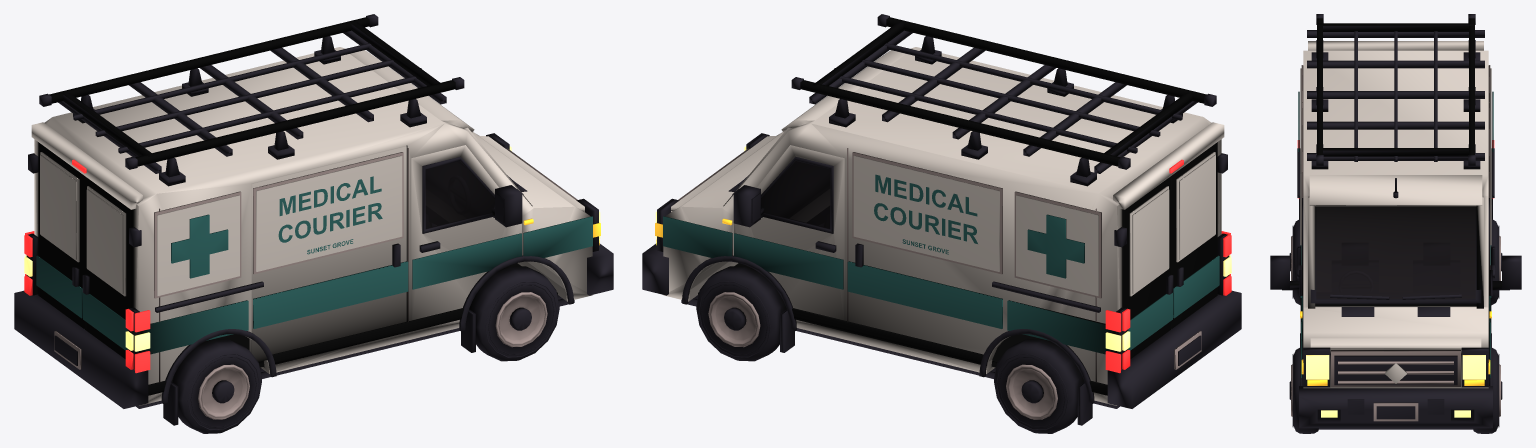
The model's file is veh.courier-van.lod1.glb.
3 views of the same model, side by side, from view 1: azimuth 30°, elevation 25°; view 2: azimuth 150°, elevation 25°; view 3: azimuth 270°, elevation 25° (orthographic). The views are drawn at different scales.
Parts seen in each view (by area): view 1: body, veh.courier-van, doorCargoL, doorL, doorRearR, doorRearL, wheelRL, wheelFL, lampBrakeL; view 2: body, veh.courier-van, doorR, doorRearL, doorRearR, wheelRR, wheelFR, lampBrakeR; view 3: veh.courier-van, body, doorL, doorR, wheelFL, wheelFR, lampHeadL, lampHeadR, doorCargoL, wheelRL, wheelRR.
Boxes of the visible parts, box(x1,y1,x2,y2) form: body: box(31, 47, 592, 405); veh.courier-van: box(14, 14, 613, 425); doorCargoL: box(249, 146, 408, 361); doorL: box(411, 145, 522, 320); doorRearR: box(28, 142, 84, 328); doorRearL: box(82, 176, 141, 358); wheelRL: box(172, 338, 261, 433); wheelFL: box(469, 266, 559, 361); lampBrakeL: box(125, 308, 150, 373); body: box(663, 47, 1224, 405); veh.courier-van: box(642, 14, 1241, 425); doorR: box(733, 145, 844, 320); doorRearL: box(1171, 142, 1227, 328); doorRearR: box(1114, 176, 1173, 358); wheelRR: box(994, 338, 1083, 433); wheelFR: box(696, 266, 786, 361); lampBrakeR: box(1105, 308, 1130, 373); veh.courier-van: box(1297, 14, 1495, 429); body: box(1300, 41, 1491, 388); doorL: box(1270, 198, 1303, 341); doorR: box(1488, 198, 1521, 341); wheelFL: box(1289, 347, 1318, 433); wheelFR: box(1473, 347, 1502, 433); lampHeadL: box(1306, 355, 1329, 379); lampHeadR: box(1462, 355, 1485, 379); doorCargoL: box(1296, 108, 1303, 297); wheelRL: box(1289, 219, 1300, 305); wheelRR: box(1491, 219, 1502, 305).
Size of the model in its own units: 5.47 by 3 by 2.71.
